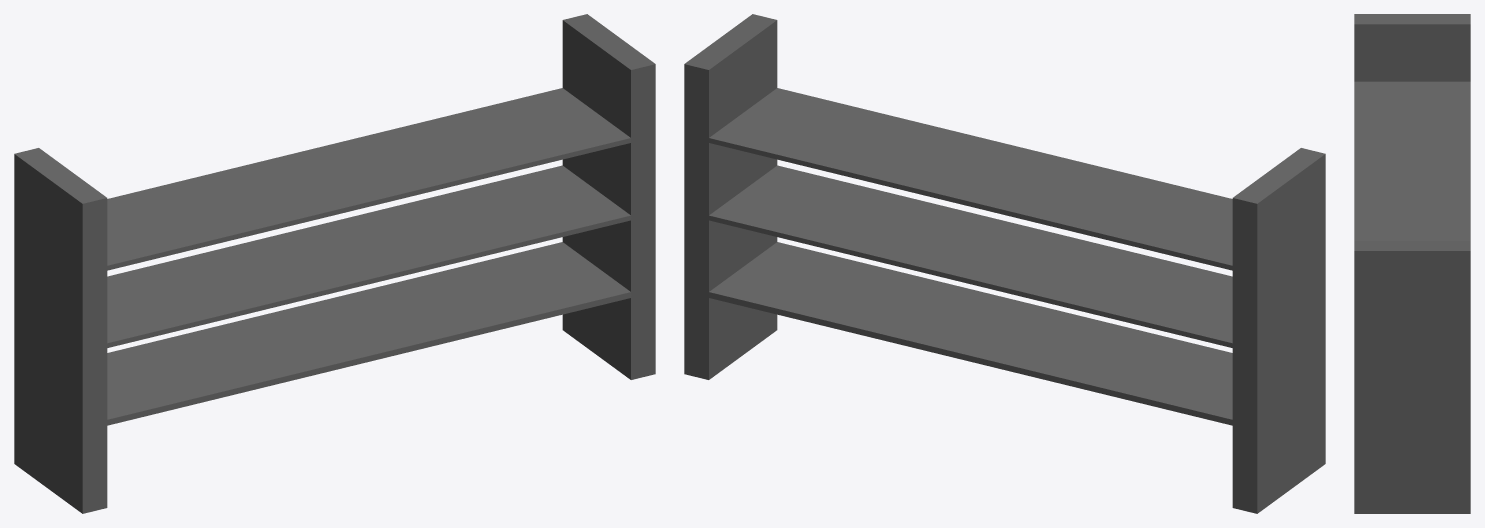
Rendered from Shelf.glb.
The picture shows the model from 3 angles, left to right: view 1: azimuth 30°, elevation 25°; view 2: azimuth 150°, elevation 25°; view 3: azimuth 270°, elevation 25°; orthographic projection. The views are drawn at different scales.
Parts seen in each view (by area): view 1: Cube.001; view 2: Cube.001; view 3: Cube.001.
Part boxes in pixels (x1,y1,x2,y2): Cube.001: [14, 14, 655, 513]; Cube.001: [684, 14, 1325, 513]; Cube.001: [1354, 14, 1470, 513].
Bounding box in the file's own units: 11.6 × 6 × 2.4.
2 materials, 2 textured.
